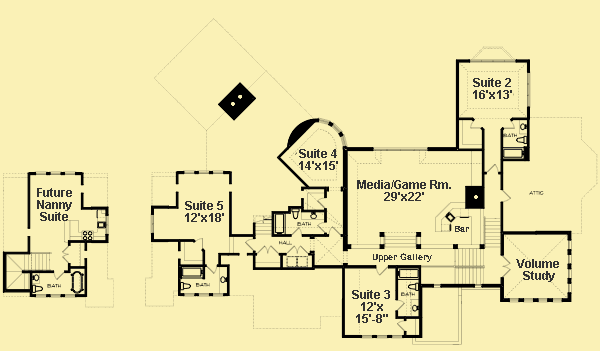door: (243, 236, 259, 252), (287, 246, 310, 257), (258, 245, 278, 256), (61, 244, 71, 264), (373, 263, 387, 276), (486, 161, 500, 174), (289, 227, 304, 239), (318, 219, 328, 234), (395, 319, 406, 332), (501, 188, 511, 202), (394, 299, 405, 311), (469, 119, 481, 130)
large_sink: (29, 283, 45, 294), (180, 279, 193, 291), (289, 206, 300, 220), (406, 280, 420, 291), (515, 132, 527, 144)
small_sink: (300, 211, 324, 220), (219, 268, 228, 291), (409, 300, 420, 315), (517, 120, 528, 133), (30, 274, 39, 283)
stairs: (456, 218, 502, 286), (5, 252, 52, 274), (379, 229, 422, 250), (316, 116, 345, 146), (252, 214, 271, 237)
tub: (69, 270, 84, 294), (273, 213, 286, 235), (397, 268, 419, 281)
windows: (317, 118, 348, 148), (507, 296, 564, 304), (180, 168, 224, 176), (567, 238, 573, 295), (371, 146, 427, 152), (184, 292, 225, 298), (359, 334, 404, 339), (526, 71, 532, 108), (32, 170, 76, 175), (33, 294, 75, 298)
